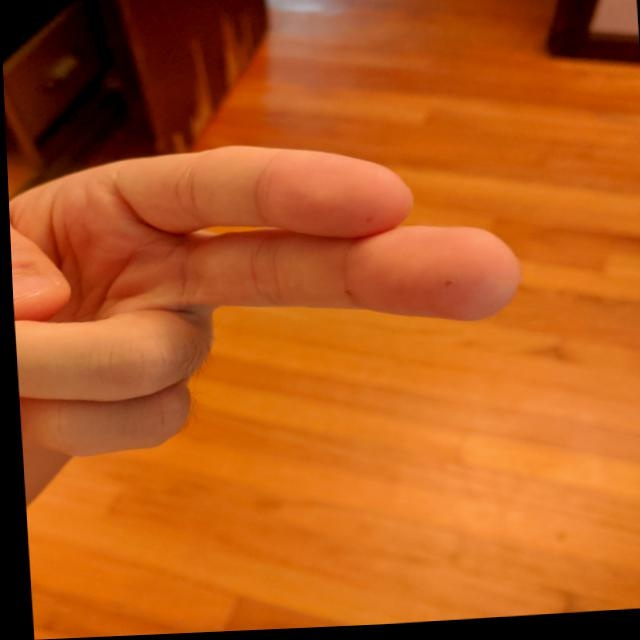H: (5, 123, 540, 470)
